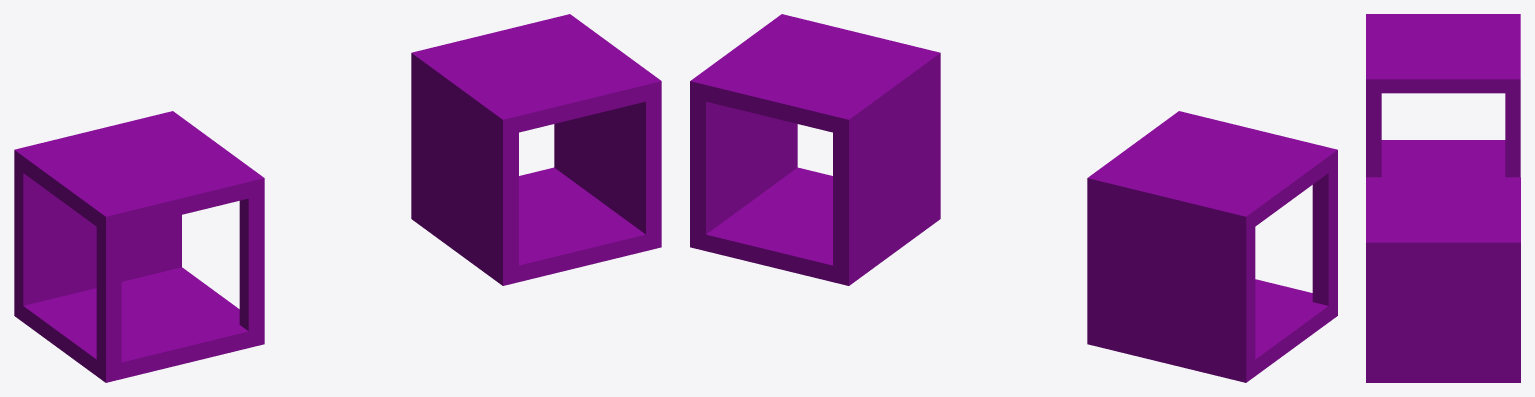
Rendered from flythroughs.001.glb.
3 views of the same model, side by side, from view 1: azimuth 30°, elevation 25°; view 2: azimuth 150°, elevation 25°; view 3: azimuth 270°, elevation 25° (orthographic). The views are drawn at different scales.
Bounding box in the file's own units: 7 × 2 × 2.
1 material, 1 textured.
